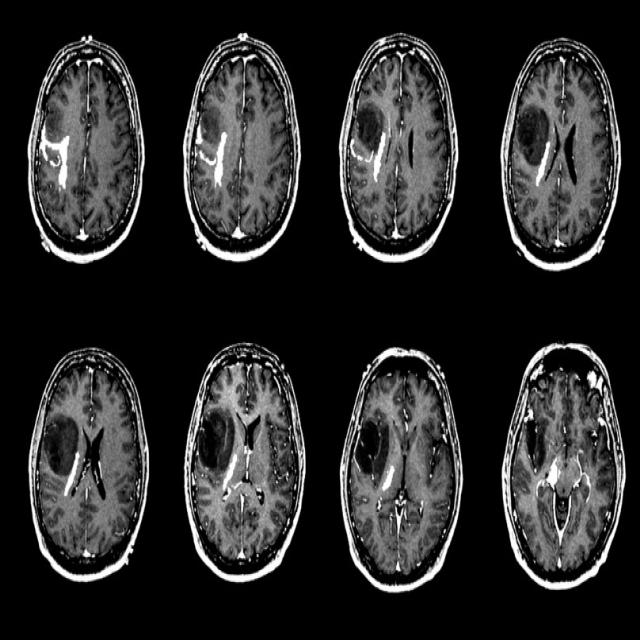Tumor: (38, 124, 77, 193), (195, 124, 231, 189), (217, 451, 242, 492), (372, 128, 389, 188), (534, 135, 551, 187), (64, 454, 82, 499), (379, 467, 398, 493), (544, 462, 560, 489)
